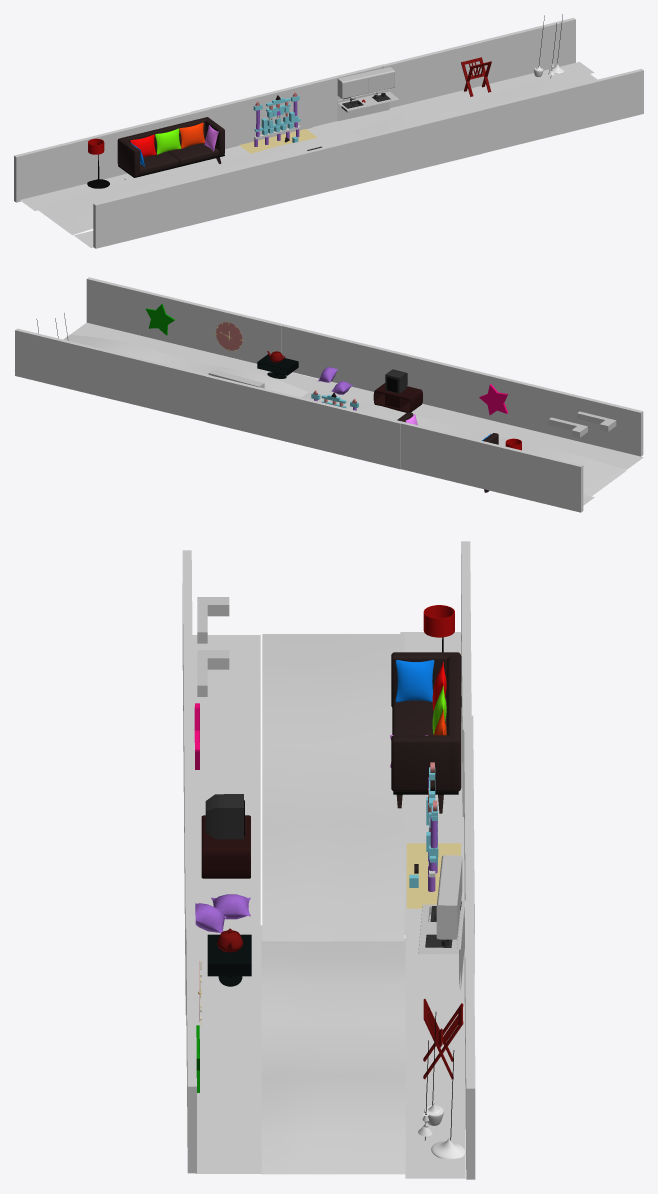
The picture shows the model from 3 angles, top to bottom: view 1: azimuth 30°, elevation 25°; view 2: azimuth 150°, elevation 25°; view 3: azimuth 270°, elevation 25°; orthographic projection. The views are drawn at different scales.
Parts seen in each view (by area): view 1: Wall015, Wall017, Wall020, Wall019, Wall012, Wall018, Plane001, Plane008, Plane009, Plane006, 上柜, 下柜桌面 (+9 smaller); view 2: Wall018, Wall020, Wall012, Wall015, Wall019, Wall017, Plane005, Plane001, Plane007, Plane008, Rectangle001, Cylinder005 (+6 smaller); view 3: Plane001, Plane008, Plane005, Plane007, Plane009, Plane006, ChamferBox003, Wall020, Wall019, Rectangle001, Wall017, Wall012 (+14 smaller).
Part boxes in pixels (<box>): Wall015: <box>93,156,289,248</box>; Wall017: <box>287,108,482,200</box>; Wall020: <box>381,18,575,108</box>; Wall019: <box>449,69,643,153</box>; Wall012: <box>14,108,208,202</box>; Wall018: <box>191,64,386,148</box>; Plane001: <box>37,131,361,235</box>; Plane008: <box>352,74,597,137</box>; Plane009: <box>312,62,594,136</box>; Plane006: <box>20,127,324,210</box>; 上柜: <box>337,67,395,98</box>; 下柜桌面: <box>337,89,398,121</box>; Wall018: <box>206,375,401,469</box>; Wall020: <box>15,328,210,421</box>; Wall012: <box>387,418,583,512</box>; Wall015: <box>445,364,643,456</box>; Wall019: <box>86,277,281,363</box>; Wall017: <box>250,316,447,409</box>; Plane005: <box>317,381,643,469</box>; Plane001: <box>302,392,626,496</box>; Plane007: <box>70,322,330,394</box>; Plane008: <box>63,334,308,397</box>; Rectangle001: <box>373,383,422,412</box>; Cylinder005: <box>216,322,242,350</box>; Plane001: <box>262,634,404,941</box>; Plane008: <box>261,939,405,1174</box>; Plane005: <box>192,635,260,937</box>; Plane007: <box>195,925,262,1173</box>; Plane009: <box>405,917,465,1178</box>; Plane006: <box>400,632,464,934</box>; ChamferBox003: <box>391,735,450,791</box>; Wall020: <box>464,900,475,1179</box>; Wall019: <box>186,898,196,1173</box>; Rectangle001: <box>201,815,250,878</box>; Wall017: <box>184,739,194,1014</box>; Wall012: <box>461,541,471,816</box>.
Size of what is drawn, in the model's own units: 28431 by 3599 by 6387.
